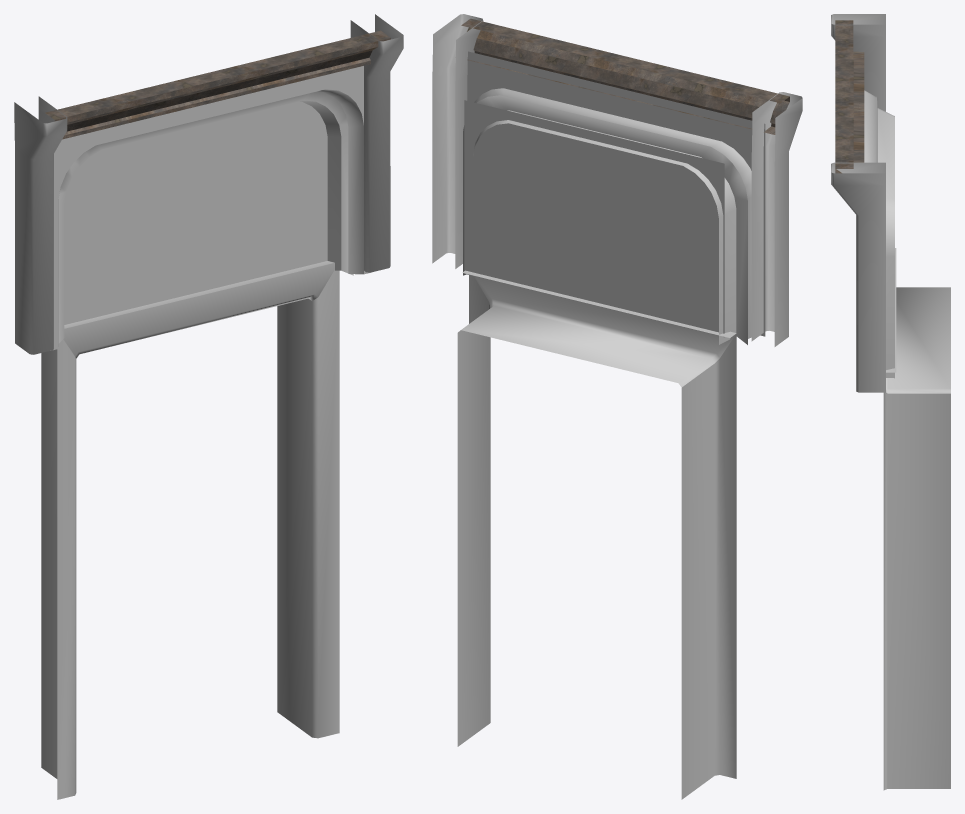
File: SD2_doorframe1.fbx
The picture shows the model from 3 angles, left to right: view 1: azimuth 30°, elevation 25°; view 2: azimuth 150°, elevation 25°; view 3: azimuth 270°, elevation 25°; orthographic projection. The views are drawn at different scales.
Parts seen in each view (by area): view 1: SD2_doorframe1_lp; view 2: SD2_doorframe1_lp; view 3: SD2_doorframe1_lp.
Part boxes in pixels (x1,y1,x2,y2): SD2_doorframe1_lp: (14, 14, 403, 799); SD2_doorframe1_lp: (432, 14, 802, 799); SD2_doorframe1_lp: (831, 14, 950, 790).
Bounding box in the file's own units: 215 × 68.02 × 403.
